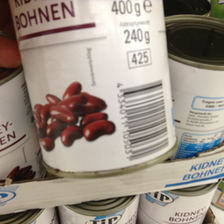beans: (9, 1, 180, 176)
